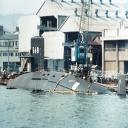submarine: (6, 37, 128, 96)
